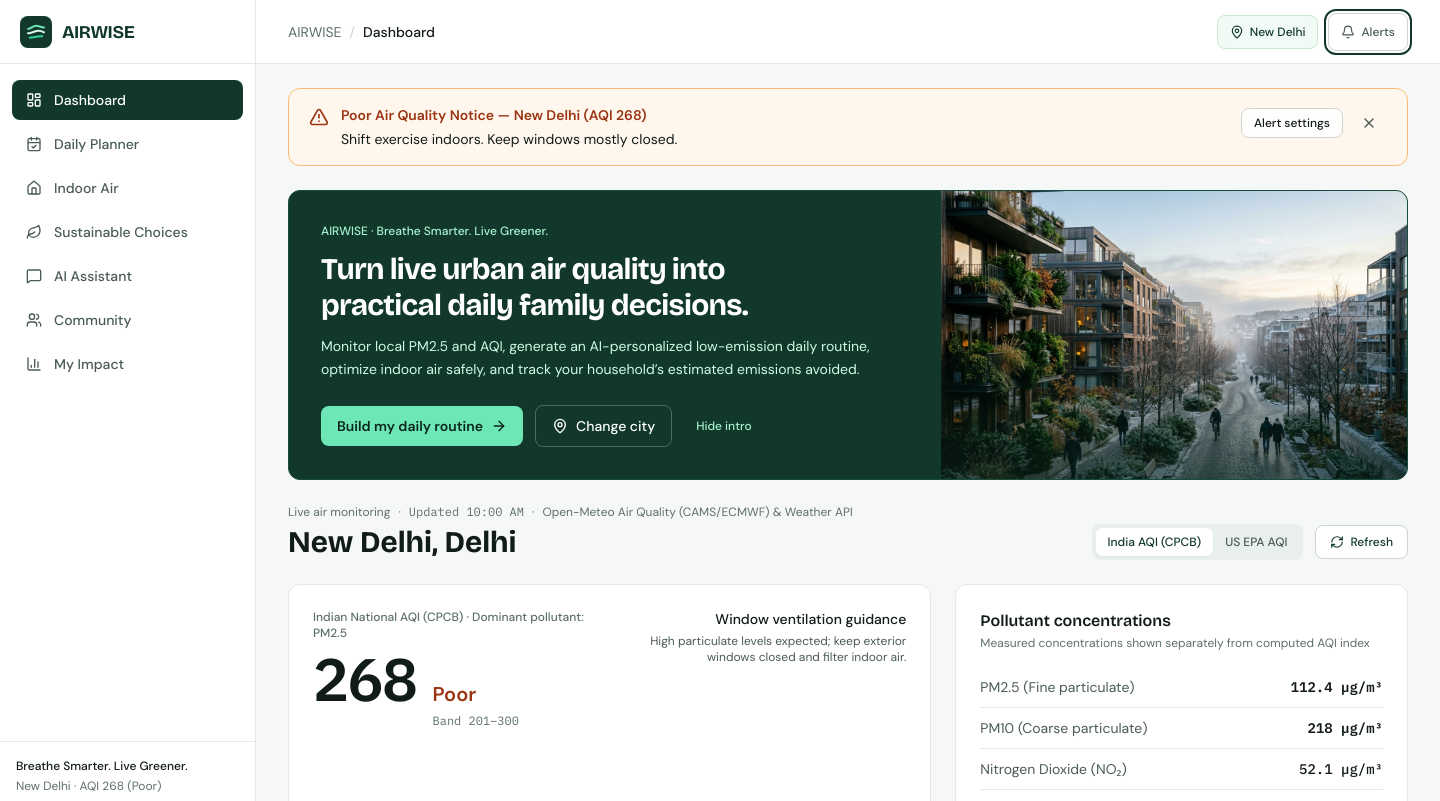
Test: Batch F1 — Core Frontend Reliability & Accessibility Regression Tests › Task 1 — useDialogFocus stability inside modals › keeps focus on interacted controls inside AlertSettingsModal instead of jumping back to Close button
Expected: the text "268" is shown, x1=313 y1=648 x2=416 y2=708
Click the button with aria-label "Open smart alert preferences" at (1368, 32), box x1=1328 y1=12 x2=1408 y2=50
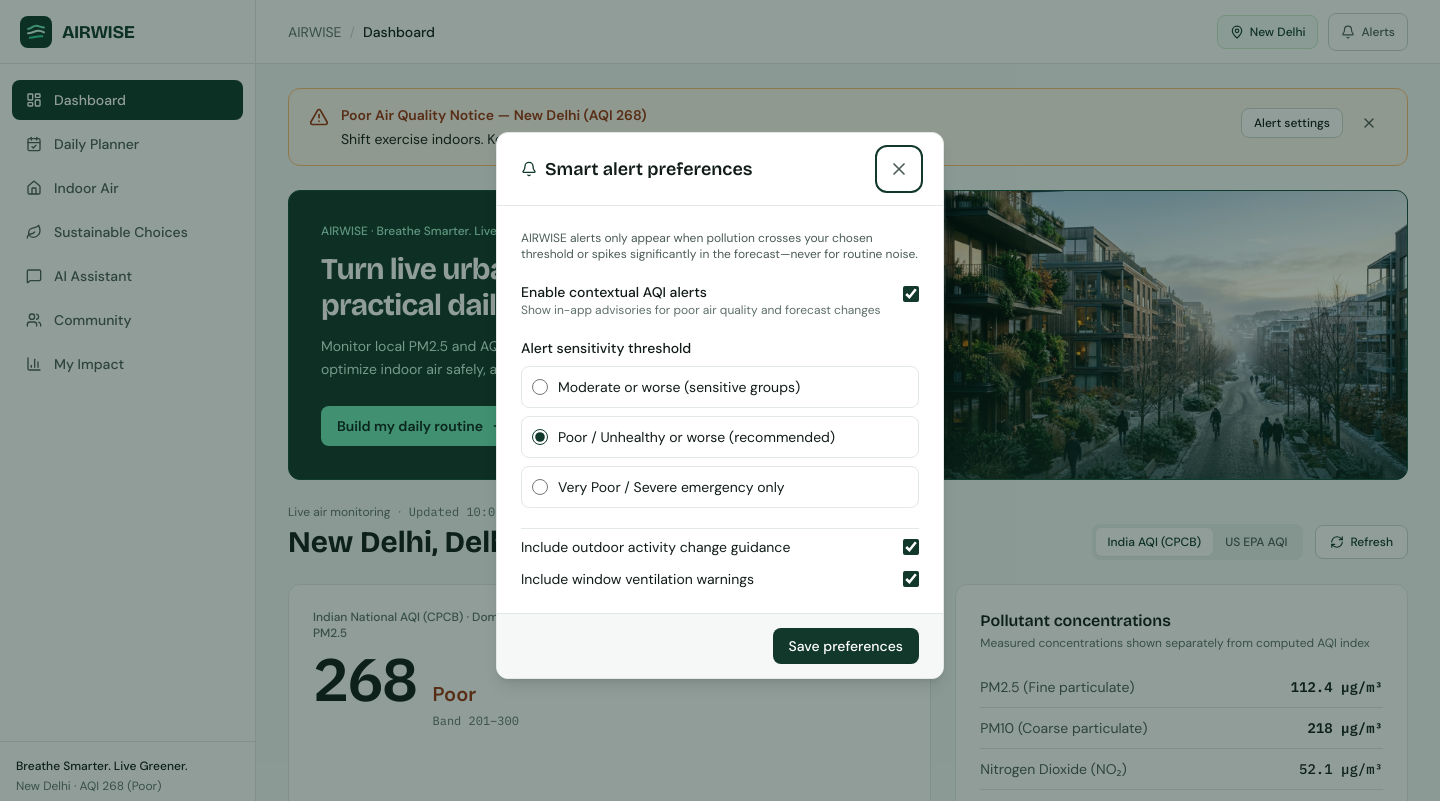
Click the radio button labelled "Very Poor / Severe emergency only" at (540, 486), box x1=532 y1=478 x2=548 y2=494
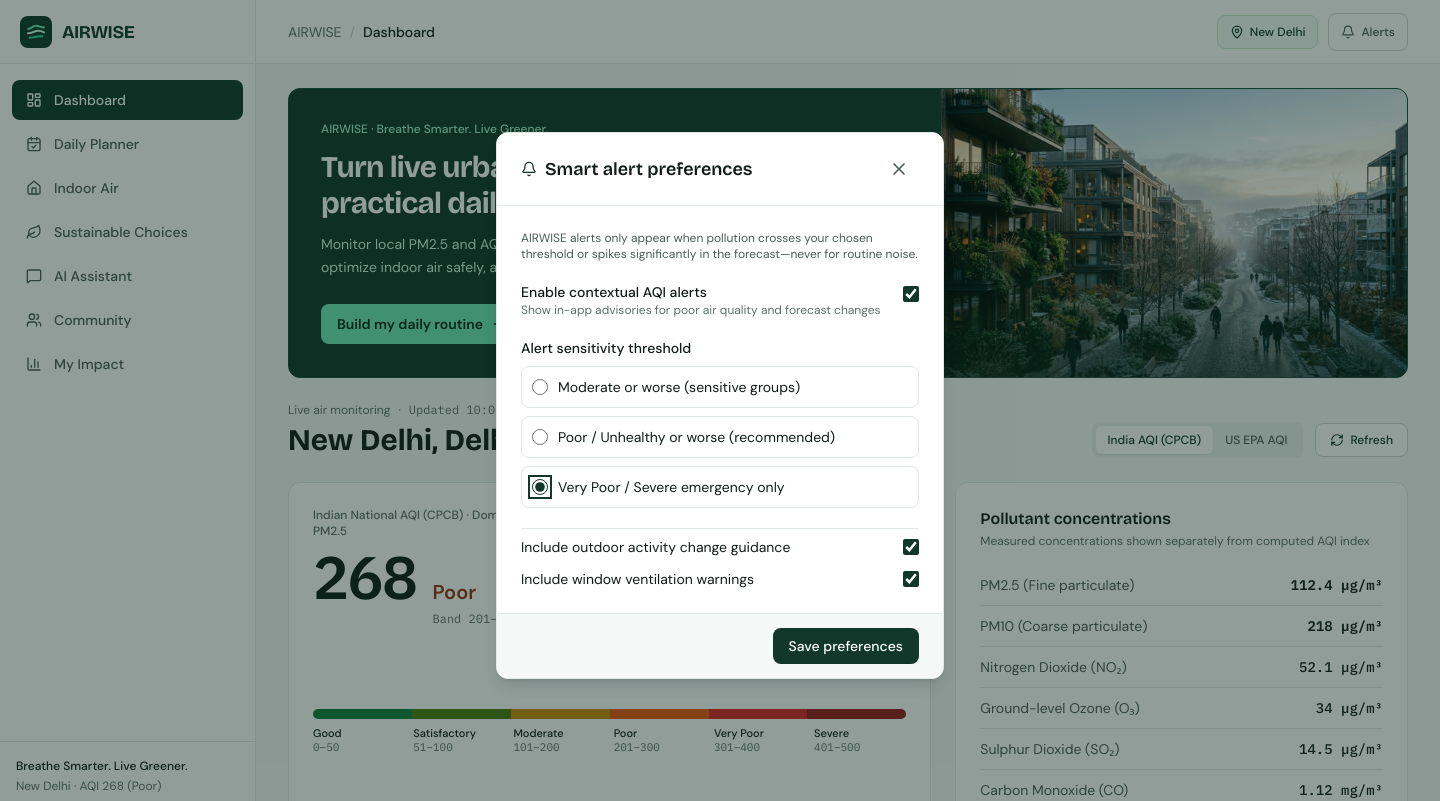
Expected: the radio button labelled "Very Poor / Severe emergency only" is checked, x1=532 y1=478 x2=548 y2=494
# Toggling checkbox also triggers App re-render and must preserve focus on the checkbox
Click the checkbox labelled "Include window ventilation warnings" at (911, 578), box x1=903 y1=570 x2=919 y2=586
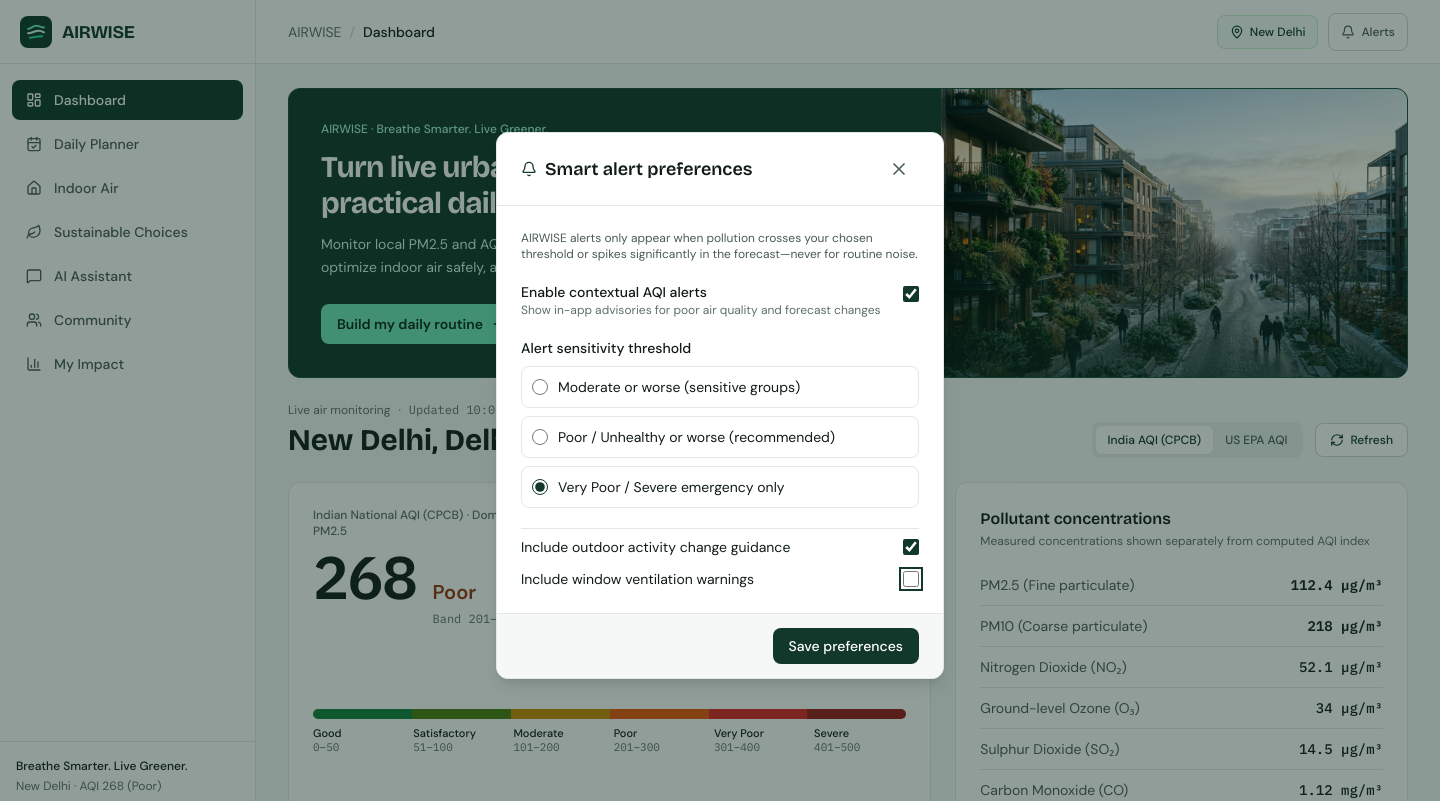
Expected: the checkbox labelled "Include window ventilation warnings" is not checked, x1=903 y1=570 x2=919 y2=586
# Escape still closes modal and restores focus to trigger
Press Escape
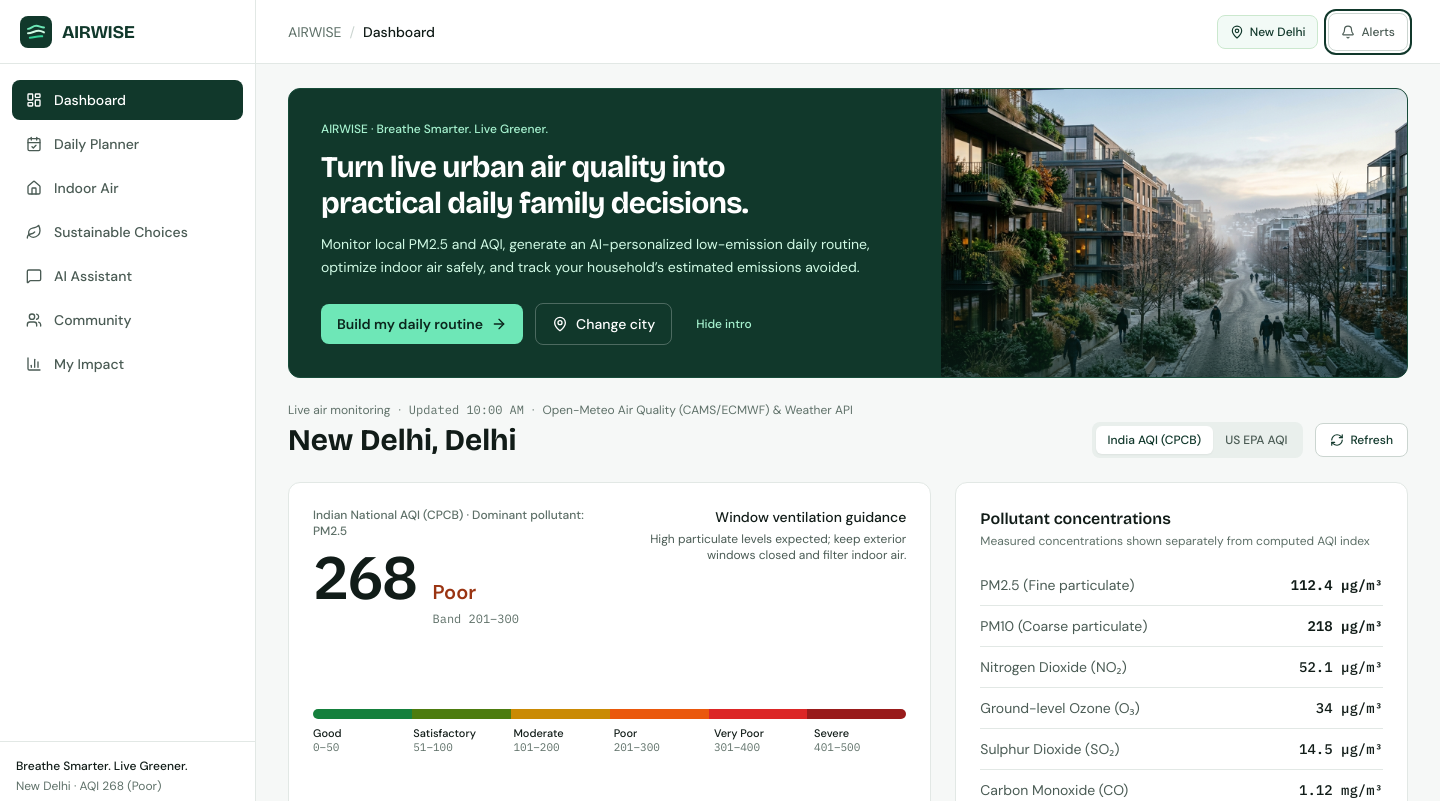
Expected: the heading "Smart alert preferences" is gone
